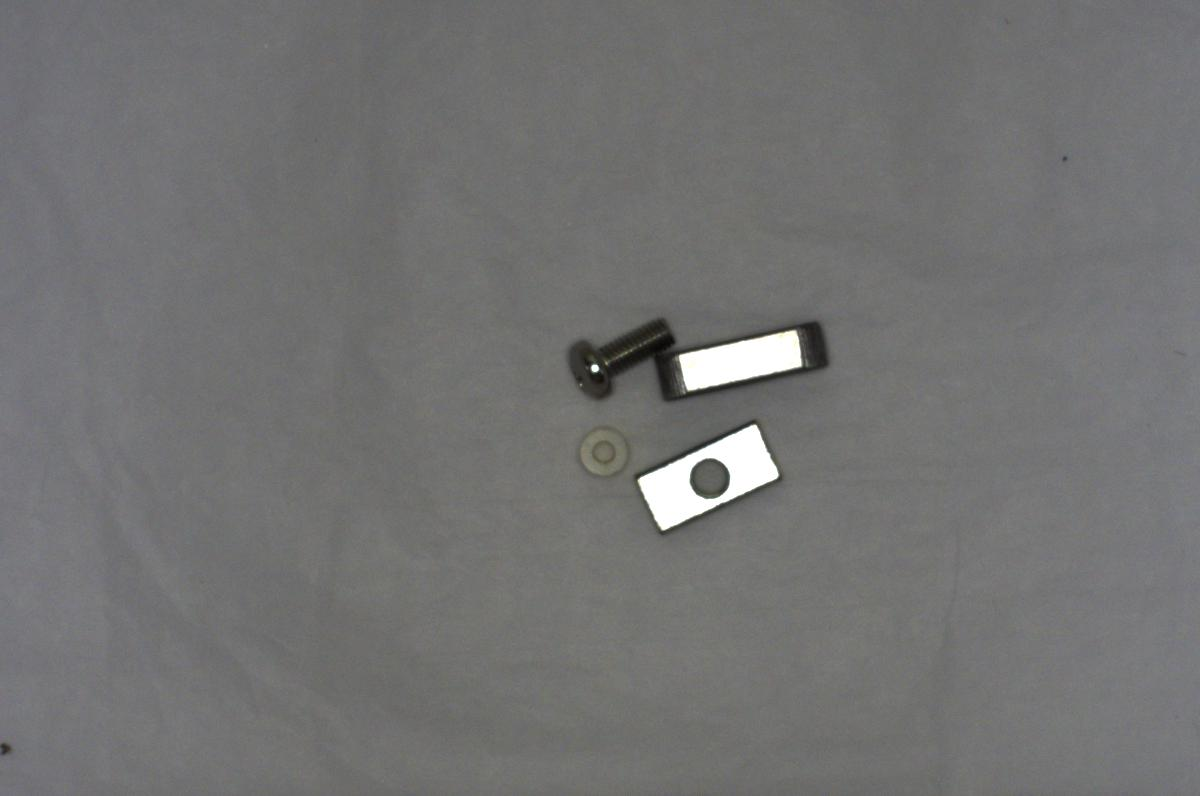Keybar: (652, 316, 841, 398)
Plastic cushion pillar: (568, 420, 633, 481)
Rectangular nut: (631, 416, 788, 536)
Round head screw: (559, 309, 675, 401)
